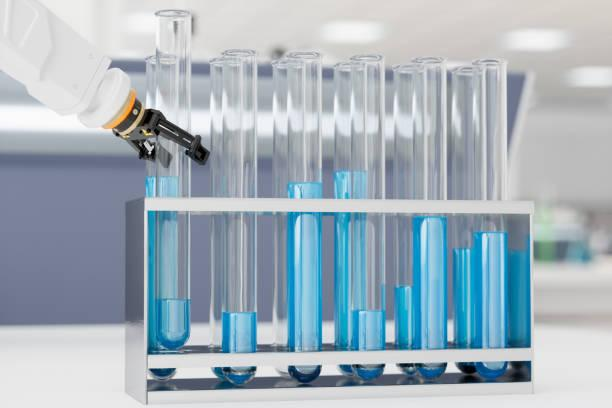Test tube: (265, 25, 330, 381), (397, 45, 451, 392), (459, 52, 512, 387), (209, 34, 258, 387), (147, 0, 192, 378), (340, 36, 387, 385)
